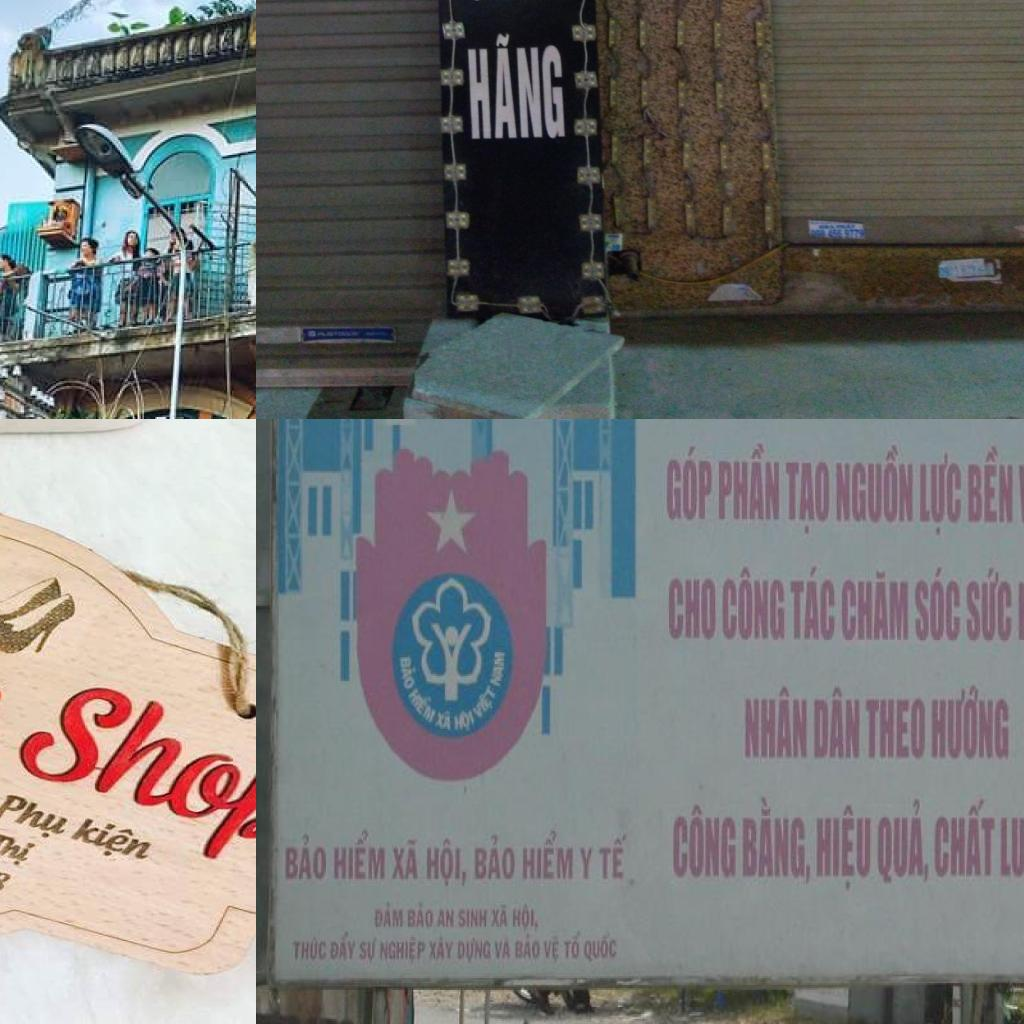text: (0, 670, 256, 884), (462, 31, 568, 142), (928, 681, 1018, 765), (738, 792, 814, 884), (836, 444, 916, 524), (738, 678, 812, 764), (810, 801, 875, 896), (714, 442, 783, 528), (666, 799, 740, 879), (62, 812, 164, 867), (841, 568, 912, 646), (932, 795, 996, 881), (719, 563, 788, 642), (874, 796, 931, 890), (964, 439, 1018, 529), (784, 560, 838, 645), (861, 695, 928, 763), (663, 567, 719, 645), (662, 444, 716, 524), (910, 565, 964, 645), (0, 790, 79, 843), (811, 684, 864, 763), (916, 449, 964, 536), (962, 566, 1015, 644), (784, 454, 830, 534), (518, 826, 577, 881), (330, 830, 387, 880), (282, 835, 328, 886), (426, 840, 468, 892), (470, 834, 516, 880), (377, 934, 427, 973), (598, 828, 630, 884), (473, 679, 503, 729), (405, 688, 439, 732), (0, 831, 39, 869), (390, 836, 422, 881), (291, 930, 330, 964), (582, 932, 622, 964), (370, 898, 406, 932), (455, 936, 494, 964), (450, 702, 480, 738), (327, 928, 358, 962), (396, 655, 421, 695), (510, 904, 542, 934), (427, 932, 455, 966), (407, 898, 436, 930), (457, 904, 491, 928), (516, 932, 541, 964), (577, 842, 596, 884), (562, 928, 584, 964), (490, 650, 506, 696), (358, 935, 380, 968), (542, 935, 563, 966), (492, 936, 514, 964), (435, 903, 458, 928), (491, 903, 512, 928), (435, 707, 454, 734), (843, 228, 865, 238), (827, 228, 843, 238), (810, 230, 826, 238), (836, 223, 856, 229), (818, 223, 834, 229)
